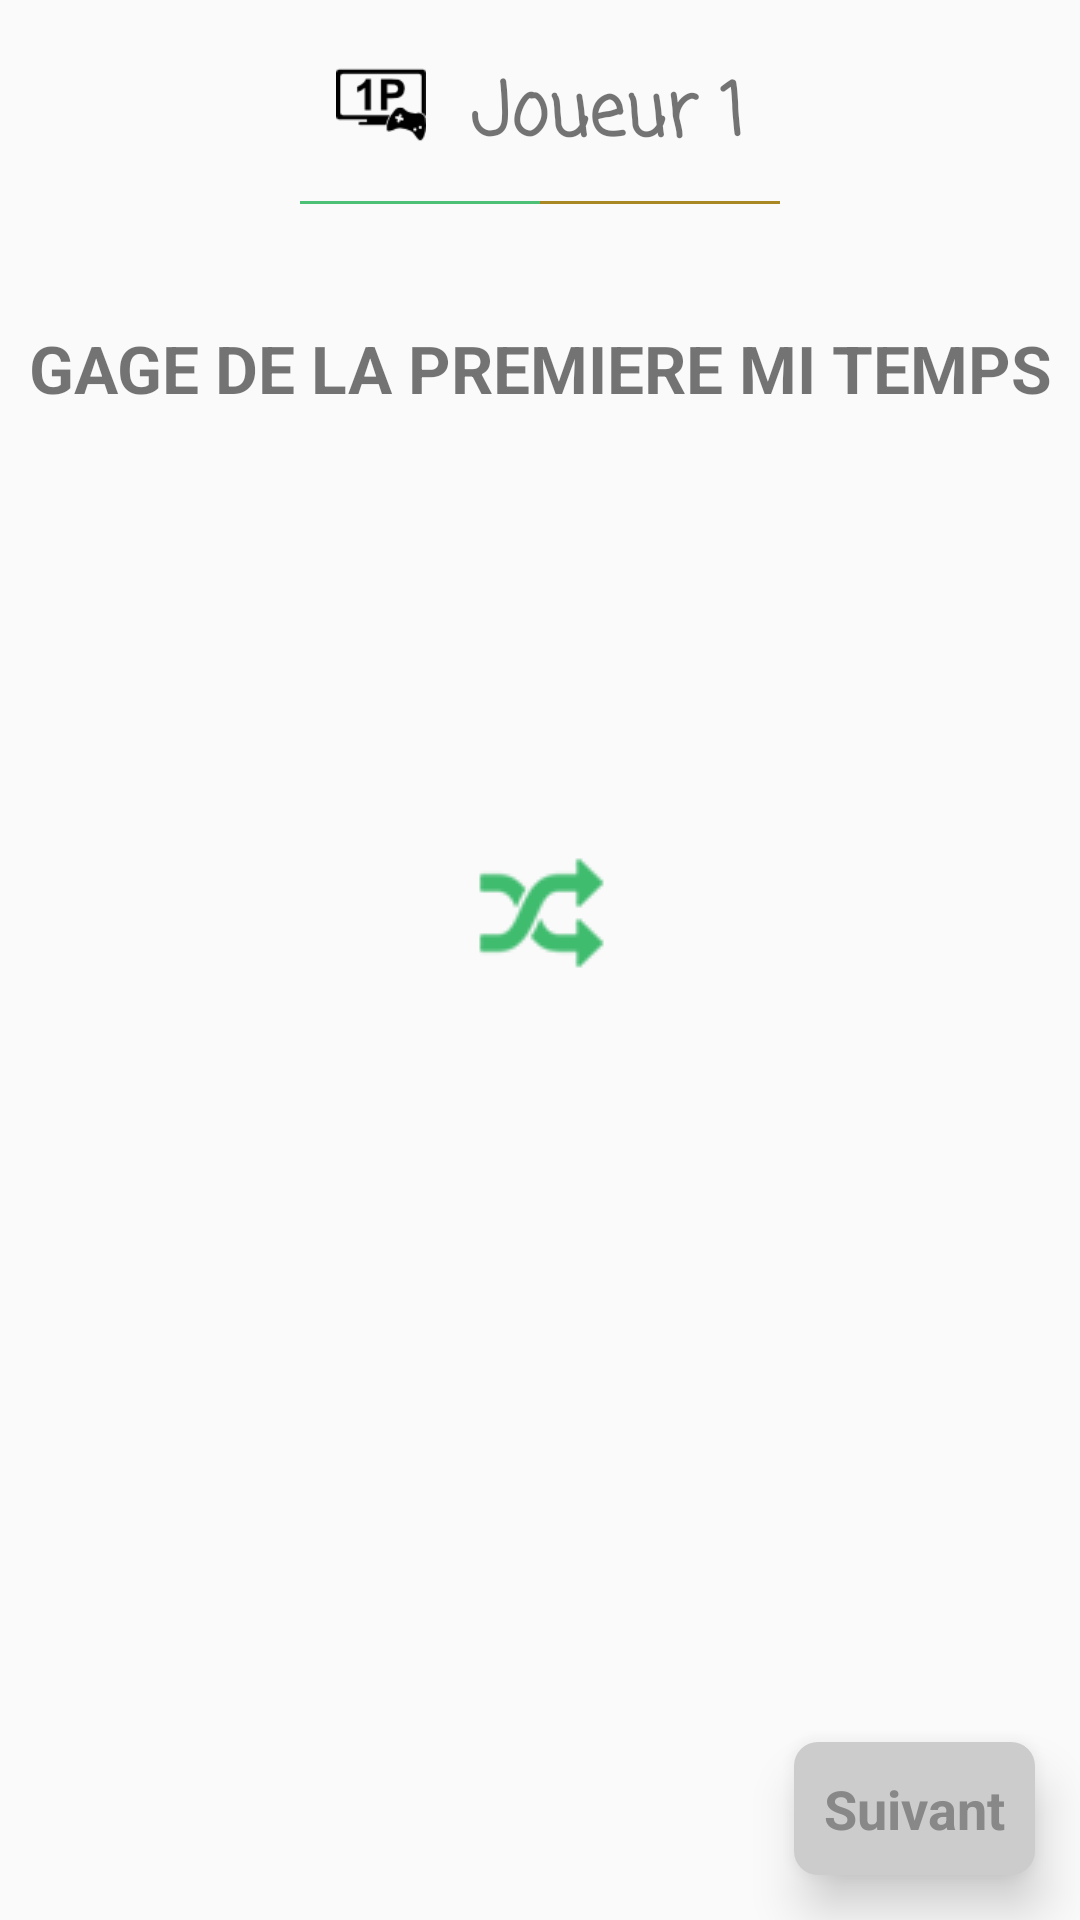

Screen size 1080 x 1920. Icon name, then its center in pixels as point (x, y):
one player game: point (381, 104)
roll: point (541, 913)
